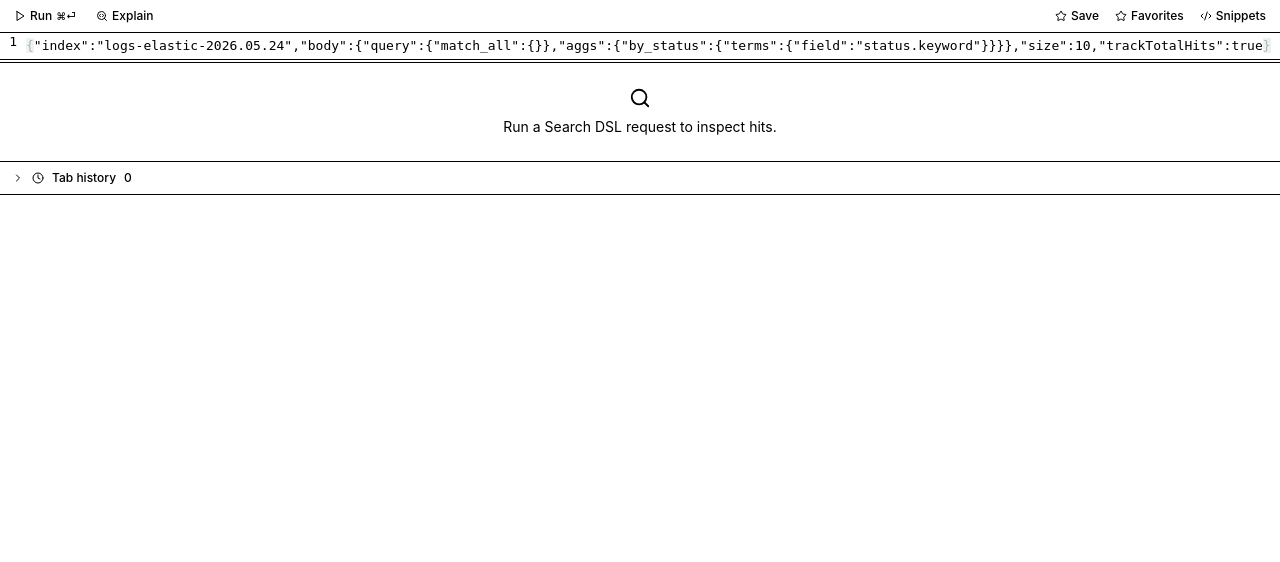
QueryTab search route › [#2153] runs Explain as a profiled _search and renders the shard tree
Click the button with aria-label "explain query" at (125, 16), box x1=90 y1=4 x2=160 y2=28
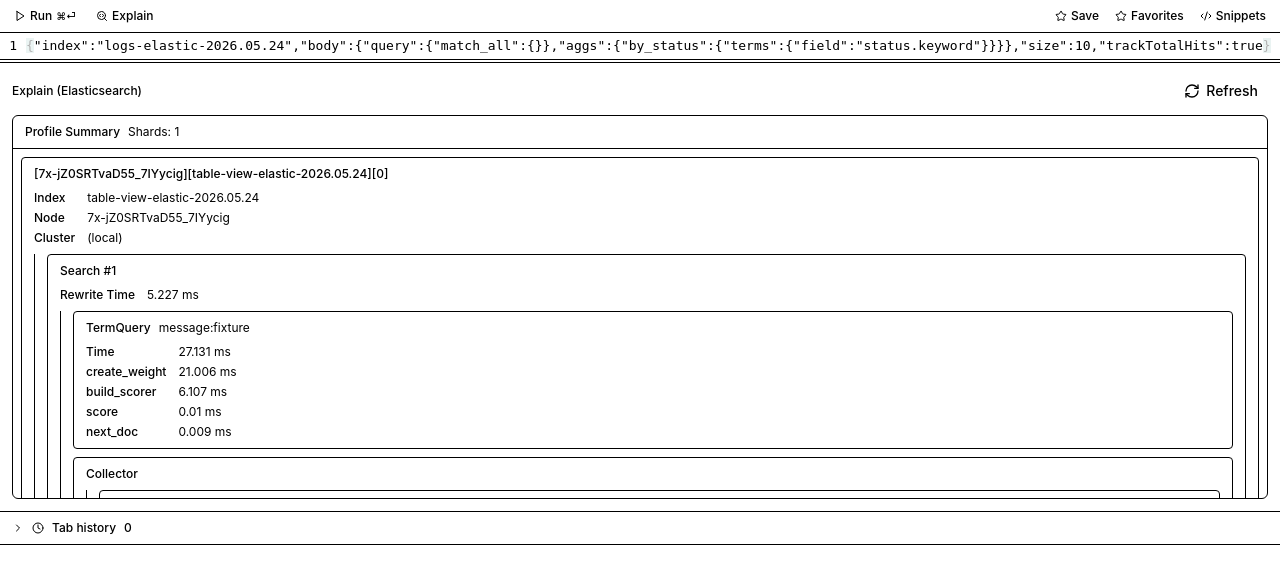
Expected: the element with test id "explain-plan-summary" shows "Profile Summary", x1=25 y1=124 x2=120 y2=139
Expected: the text "TermQuery" is shown, x1=86 y1=320 x2=151 y2=336
Expected: the text "create_weight" is shown, x1=86 y1=364 x2=166 y2=380
